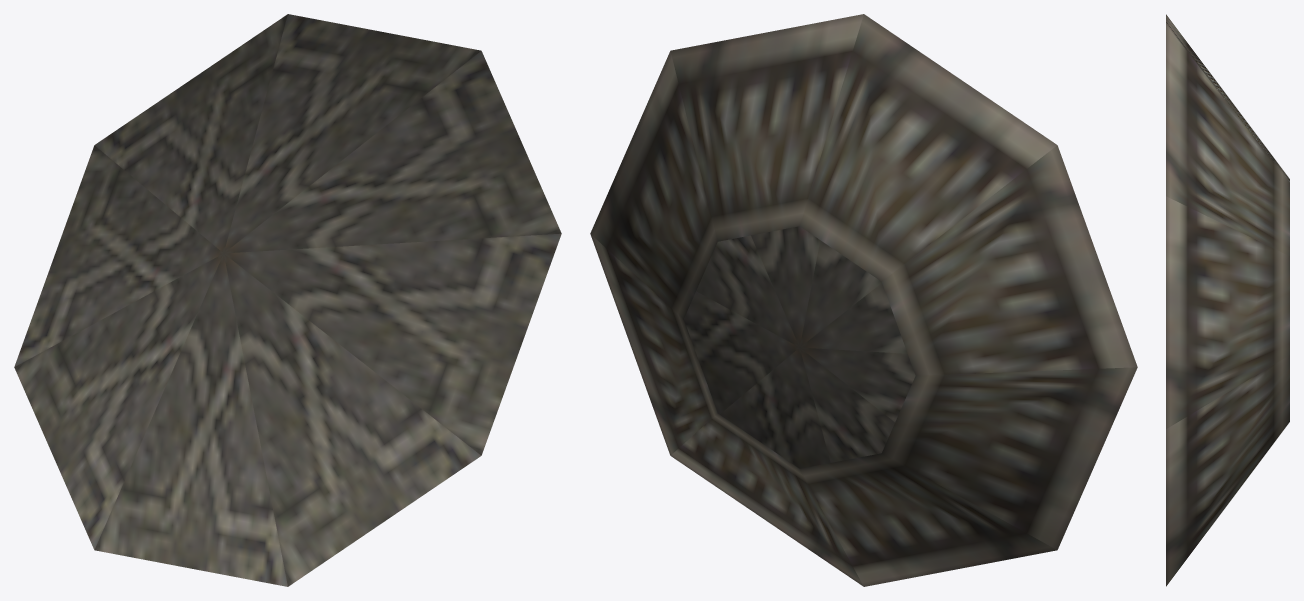
File: Bowl.fbx
3 renders of one model, left to right at view 1: azimuth 30°, elevation 25°; view 2: azimuth 150°, elevation 25°; view 3: azimuth 270°, elevation 25°, orthographic. The views are drawn at different scales.
Parts seen in each view (by area): view 1: Dungeon06_c; view 2: Dungeon06_c; view 3: Dungeon06_c.
Boxes of the visible parts, bbox=[...] form: Dungeon06_c: bbox=[14, 14, 561, 586]; Dungeon06_c: bbox=[590, 14, 1137, 586]; Dungeon06_c: bbox=[1166, 14, 1289, 586].
Size of the model in its own units: 42.24 by 42.24 by 8.59.
